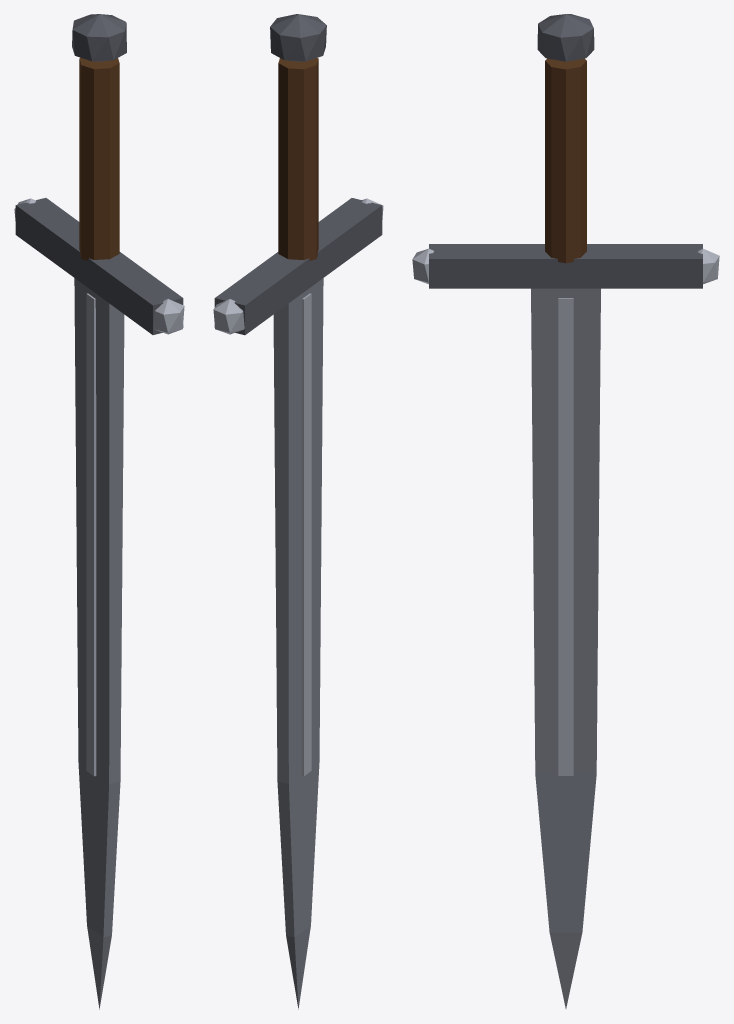
The model's file is held_iron_longsword.glb.
3 renders of one model, left to right at view 1: azimuth 30°, elevation 25°; view 2: azimuth 150°, elevation 25°; view 3: azimuth 270°, elevation 25°, orthographic.
Visible parts, largest first — view 1: held_iron_longsword; view 2: held_iron_longsword; view 3: held_iron_longsword.
Boxes of the visible parts, x1,y1,x2,y2 form: held_iron_longsword: [14, 14, 184, 1009]; held_iron_longsword: [213, 14, 383, 1009]; held_iron_longsword: [412, 14, 719, 1008].
Size of the model in its own units: 0.052 by 1 by 0.2801.
